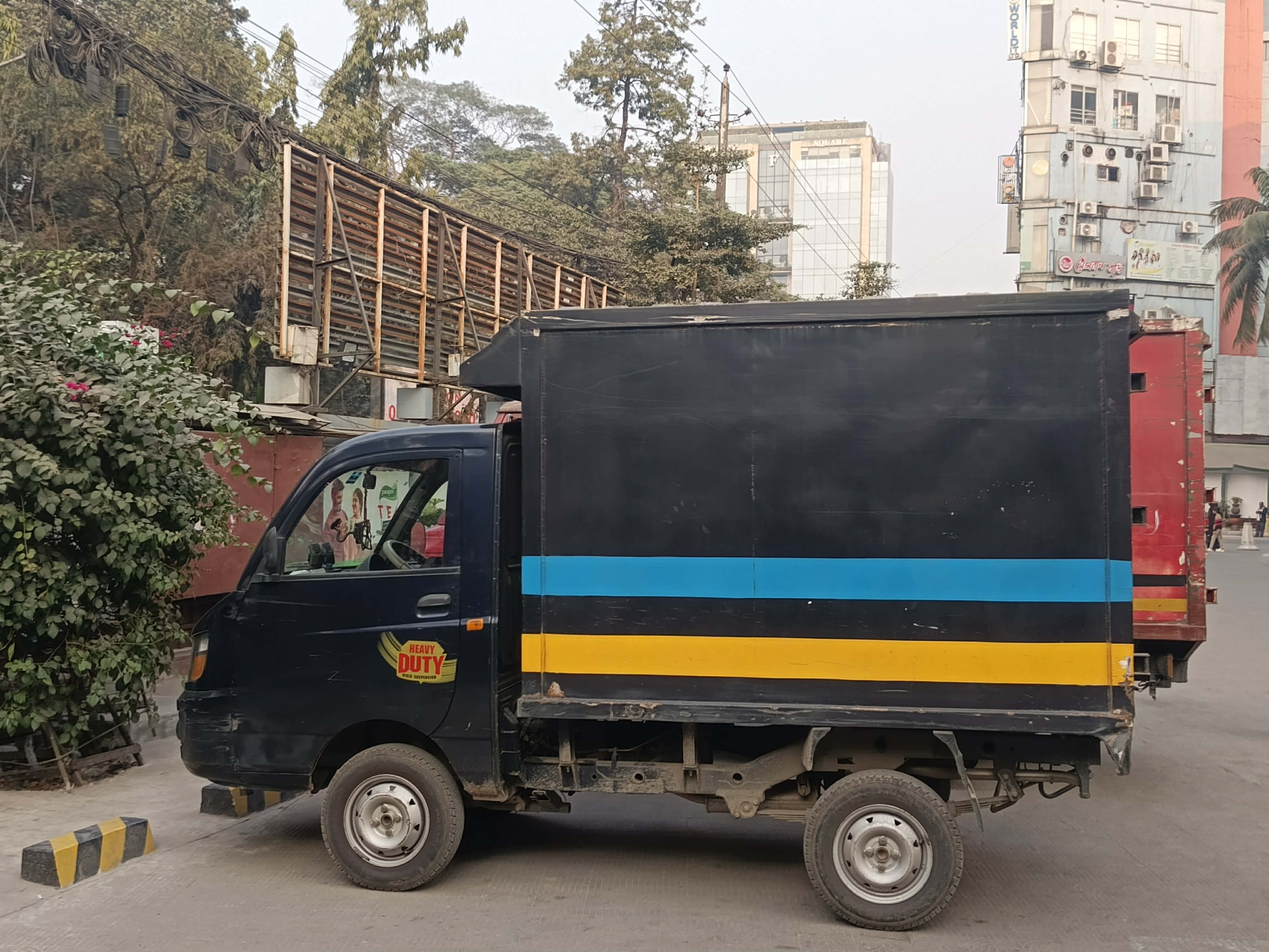Pickup: (165, 273, 1150, 948)
